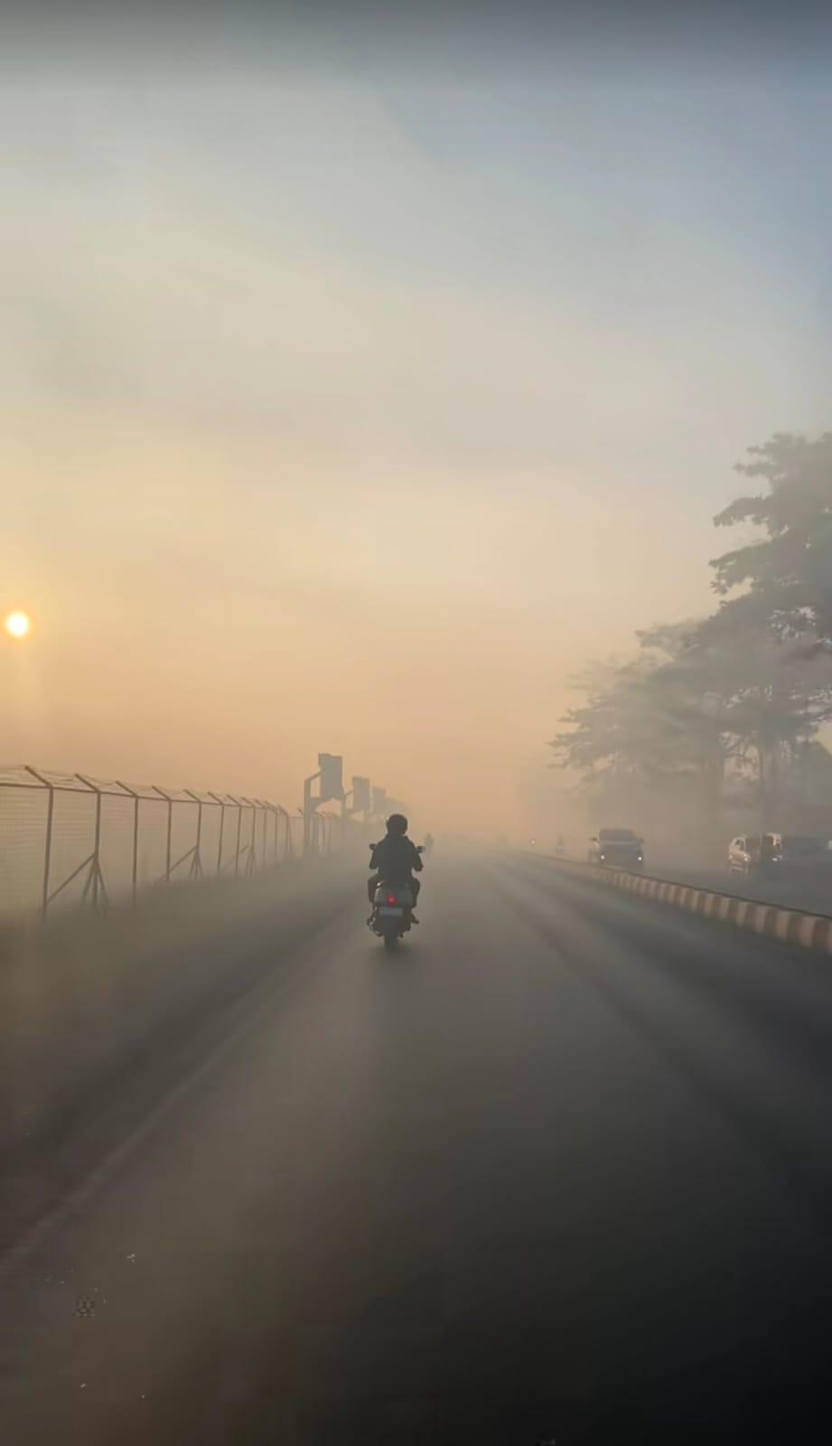Deteksi-Objek-Citra-Berasap: (0, 163, 832, 1003)
Kendaraan: (365, 844, 425, 953), (761, 831, 832, 883), (590, 827, 647, 872), (726, 831, 771, 877)
Manusia: (368, 813, 425, 927)
Vegetasi: (547, 430, 832, 836)
